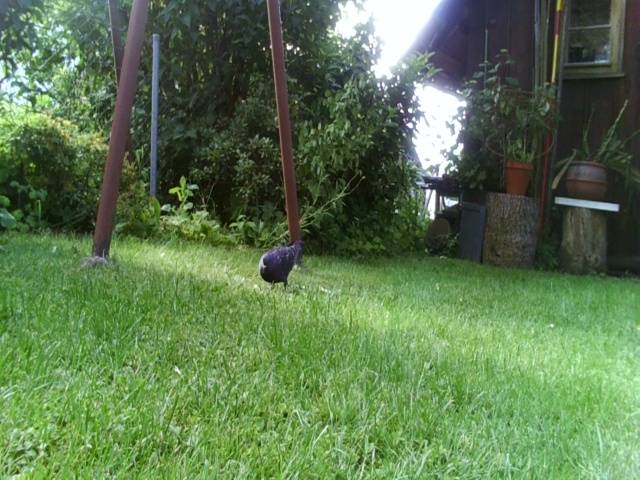Pigeon: (254, 237, 303, 295)
